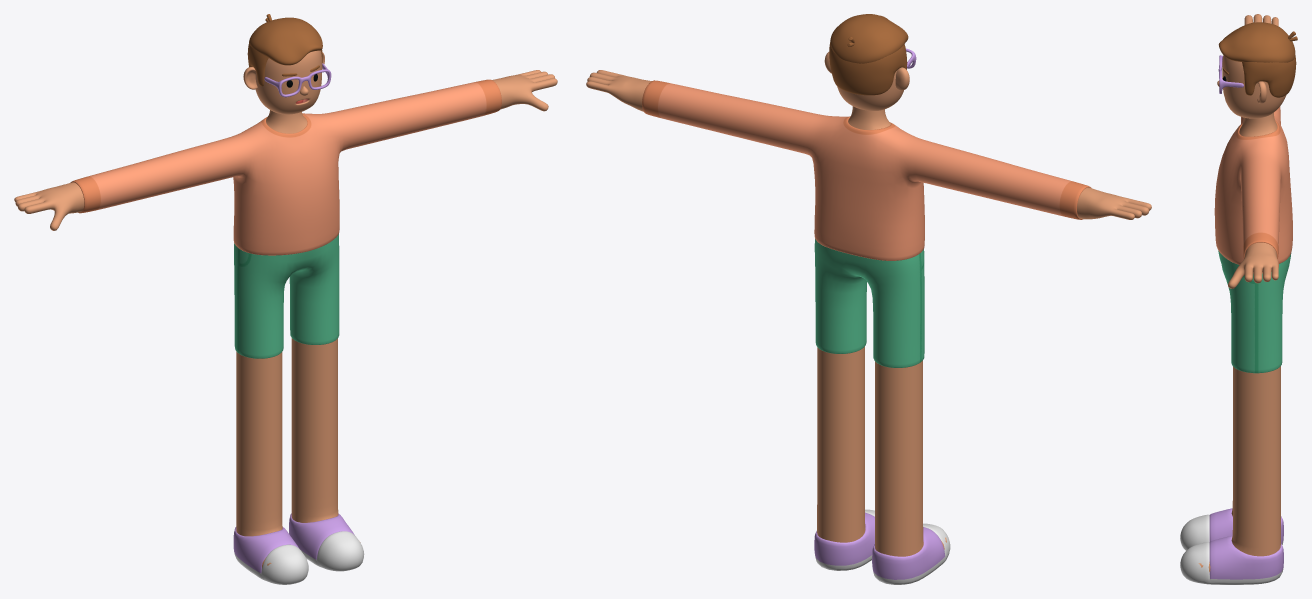
Rendered from BOY 9.fbx.
3 views of the same model, side by side, from view 1: azimuth 30°, elevation 25°; view 2: azimuth 150°, elevation 25°; view 3: azimuth 270°, elevation 25° (orthographic). The views are drawn at different scales.
Visible parts, largest first — view 1: BOY 9_SHIRT, BOY_BODY.009, BOY 9_SHORTS, BOY_9_SHOES.R, BOY 9_HAIR, BOY_9_SHOES.L; view 2: BOY 9_SHIRT, BOY_BODY.009, BOY 9_SHORTS, BOY 9_HAIR, BOY_9_SHOES.R, BOY_9_SHOES.L; view 3: BOY_BODY.009, BOY 9_SHIRT, BOY 9_SHORTS, BOY 9_HAIR, BOY_9_SHOES.L, BOY_9_SHOES.R, BOY 9_GLASSES.
Boxes of the visible parts, bbox=[...] form: BOY 9_SHIRT: bbox=[70, 79, 501, 255]; BOY_BODY.009: bbox=[14, 50, 557, 567]; BOY 9_SHORTS: bbox=[234, 234, 339, 358]; BOY_9_SHOES.R: bbox=[233, 527, 308, 584]; BOY 9_HAIR: bbox=[247, 14, 322, 86]; BOY_9_SHOES.L: bbox=[289, 513, 364, 571]; BOY 9_SHIRT: bbox=[642, 80, 1091, 260]; BOY_BODY.009: bbox=[586, 52, 1151, 556]; BOY 9_SHORTS: bbox=[814, 239, 924, 367]; BOY 9_HAIR: bbox=[829, 14, 908, 95]; BOY_9_SHOES.R: bbox=[872, 523, 950, 584]; BOY_9_SHOES.L: bbox=[814, 509, 874, 570]; BOY_BODY.009: bbox=[1198, 14, 1286, 572]; BOY 9_SHIRT: bbox=[1214, 106, 1292, 264]; BOY 9_SHORTS: bbox=[1218, 250, 1291, 373]; BOY 9_HAIR: bbox=[1218, 22, 1297, 97]; BOY_9_SHOES.L: bbox=[1180, 535, 1283, 584]; BOY_9_SHOES.R: bbox=[1180, 508, 1283, 550]; BOY 9_GLASSES: bbox=[1218, 55, 1243, 93].
Size of the model in its own units: 205 by 193 by 38.46.
Materials: 10 (7 with a texture image).
